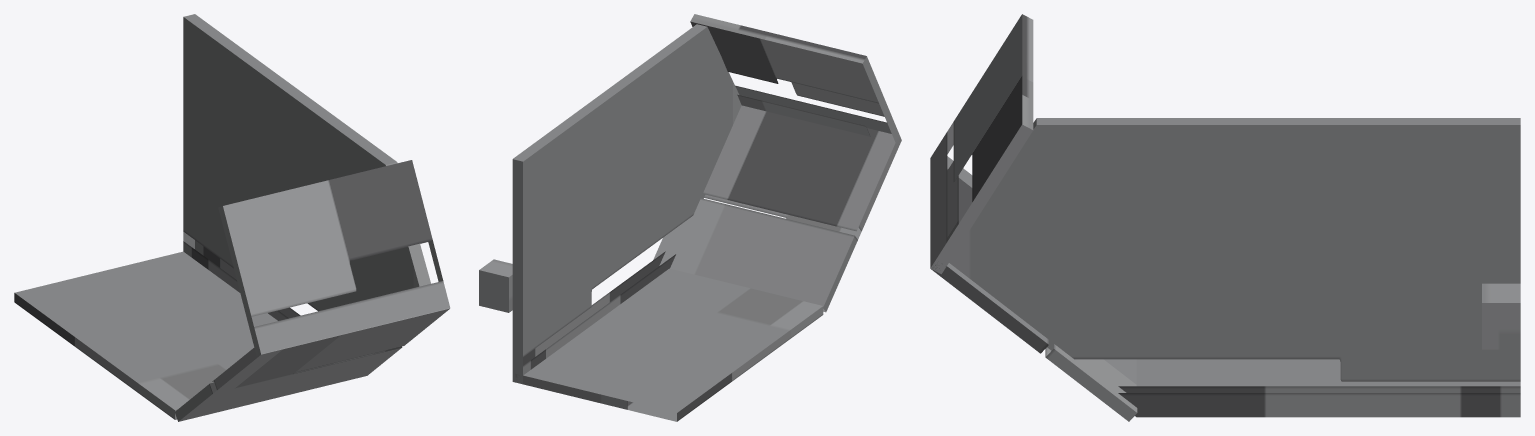
The picture shows the model from 3 angles, left to right: view 1: azimuth 30°, elevation 25°; view 2: azimuth 150°, elevation 25°; view 3: azimuth 270°, elevation 25°; orthographic projection. The views are drawn at different scales.
Size of the model in its own units: 0.93 by 1.02 by 1.83.
